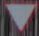Give way: (2, 0, 37, 35)
